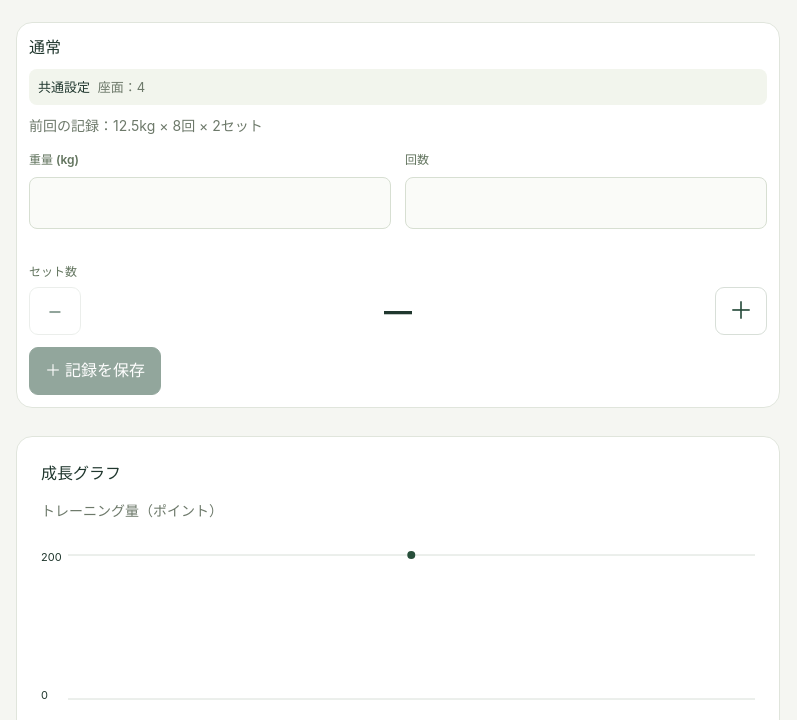
Test: strength 通常 の保存・編集・削除を表示へ反映する
Earlier steps of the test are not shown.
Type "35" into the number field labelled "重量 (kg)" at (210, 203), box [29,177,391,229]
Type "10" into the number field labelled "回数" at (586, 203), box [405,177,767,229]
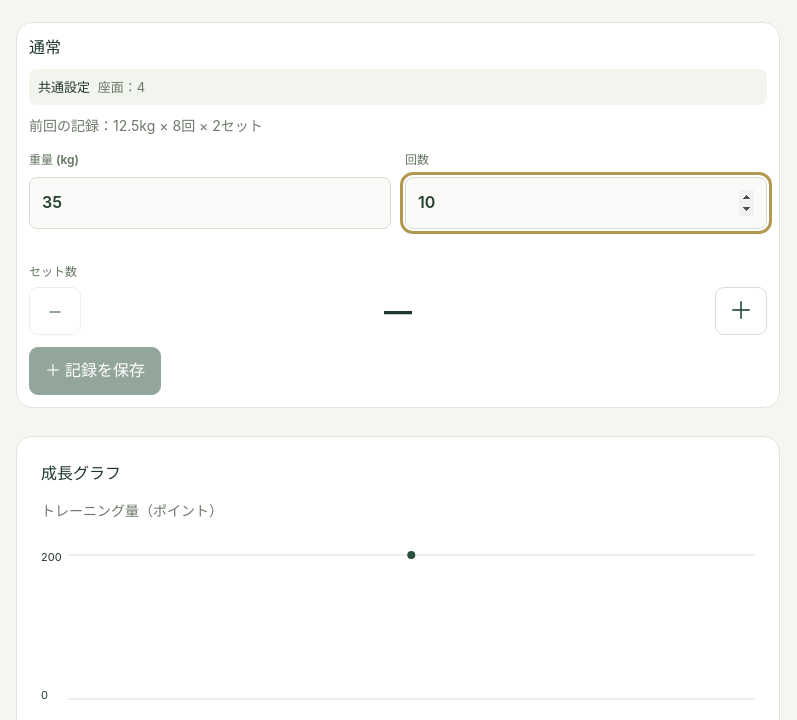
Click the button named "セット数を増やす" at (741, 311), box [715,287,767,335]
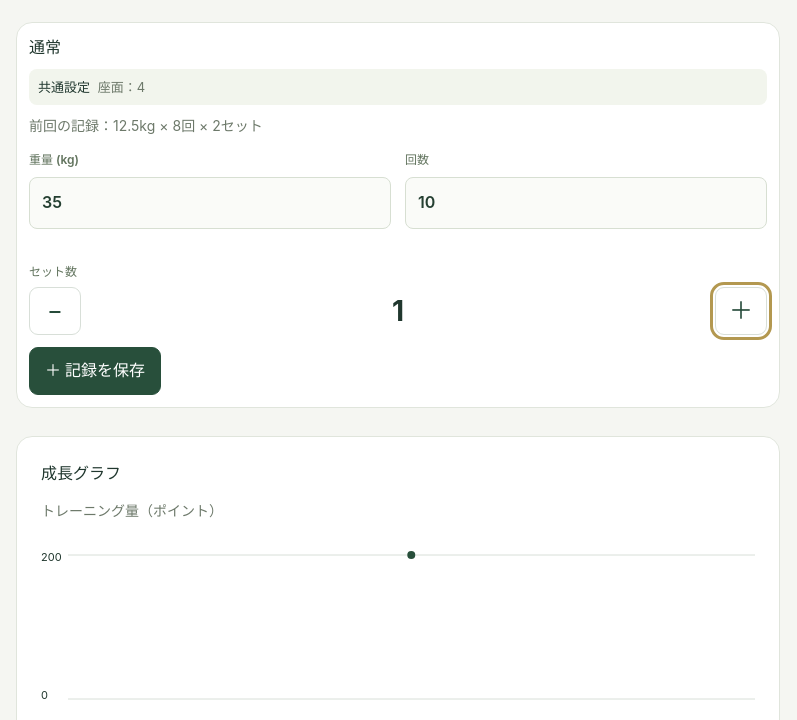
Click the button "＋ 記録を保存" at (95, 371), box [29,347,161,395]
(page scrolled)
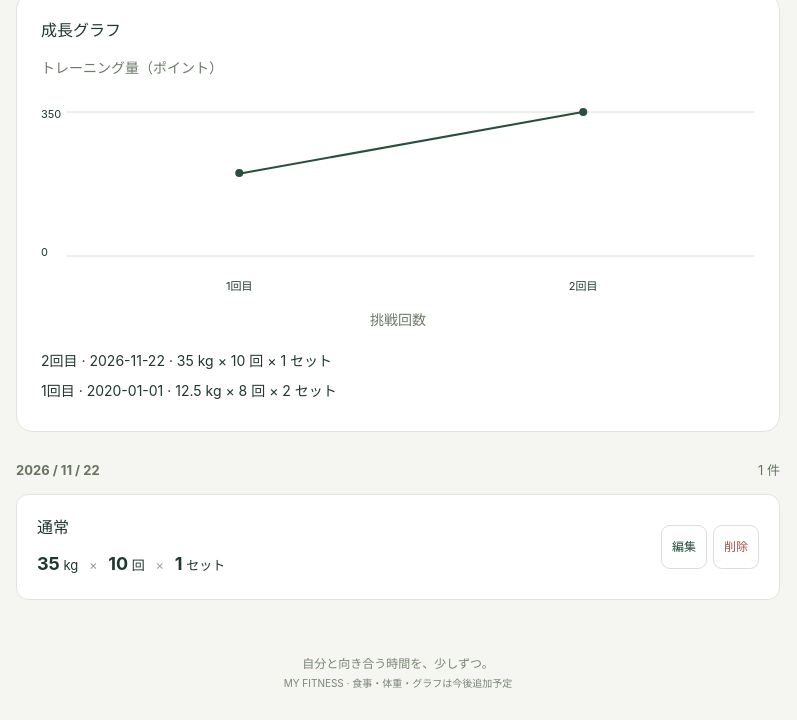
Click the button "編集" at (684, 547), box [661,525,707,569]
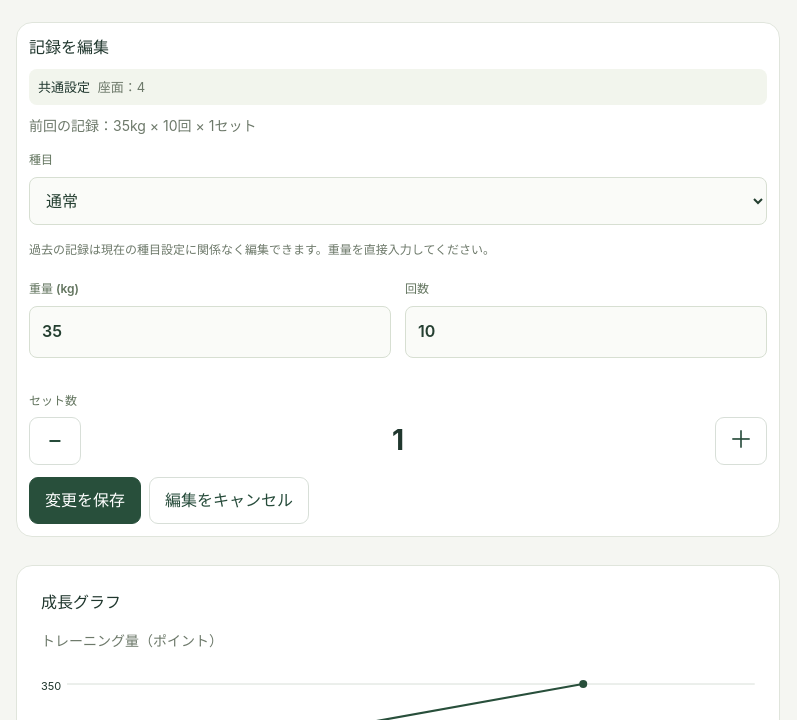
Replace the text in the number field labelled "重量 (kg)" with "36" at (210, 332), box [29,306,391,358]
Click the button "変更を保存" at (85, 500), box [29,476,141,524]
(page scrolled)
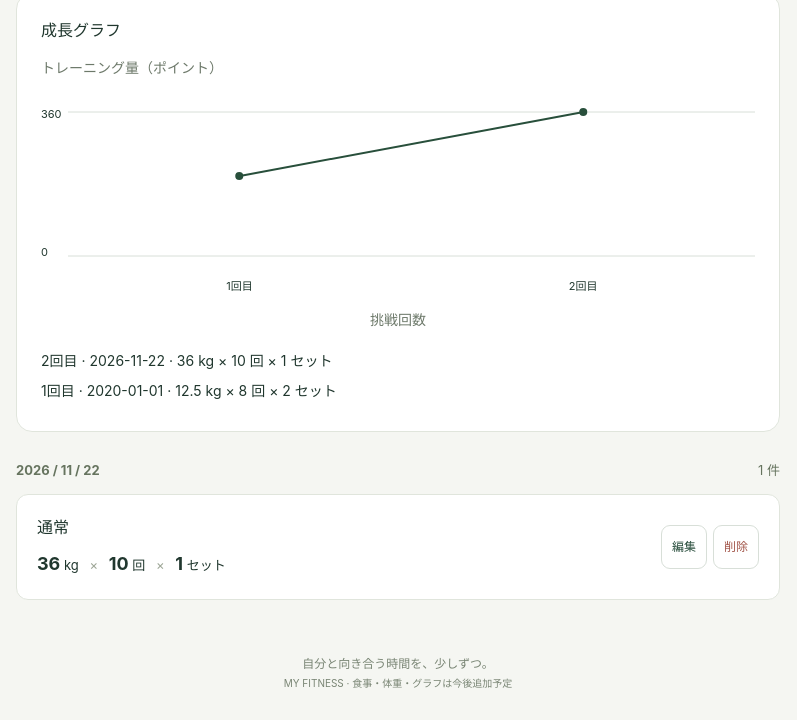
Check: the number of list items is 2, box [41,352,332,369]; [41,382,337,399]
Click the button "削除" at (736, 547), box [713,525,759,569]
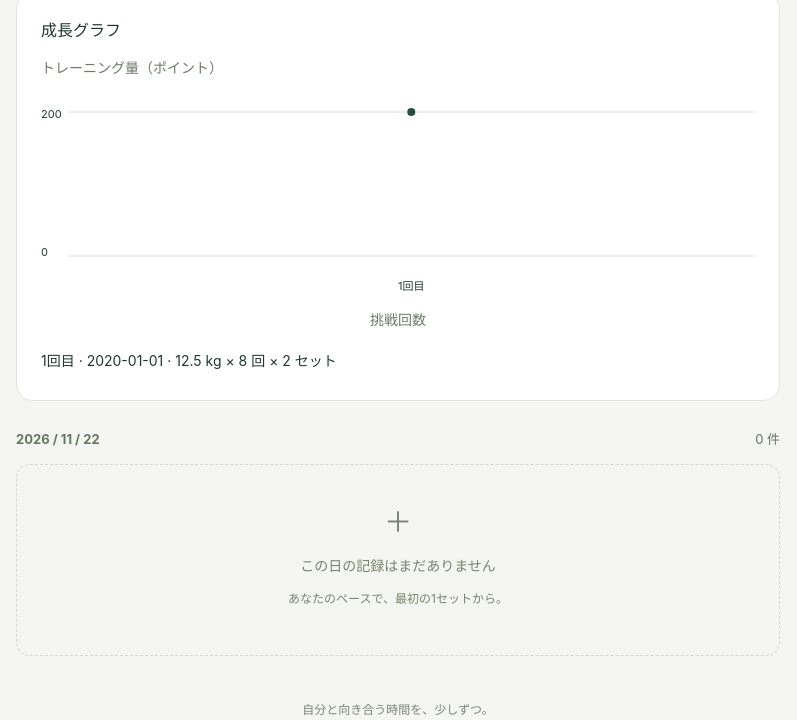
Check: the number of list items is 1, box [41,352,337,369]
